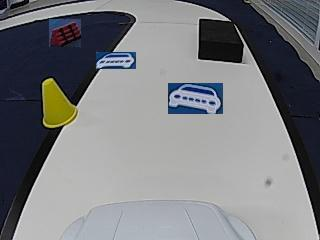block: (199, 18, 242, 61)
cone: (41, 79, 79, 127)
